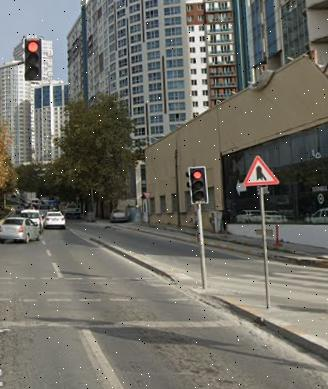redlight: (23, 36, 43, 80), (189, 165, 210, 204)
